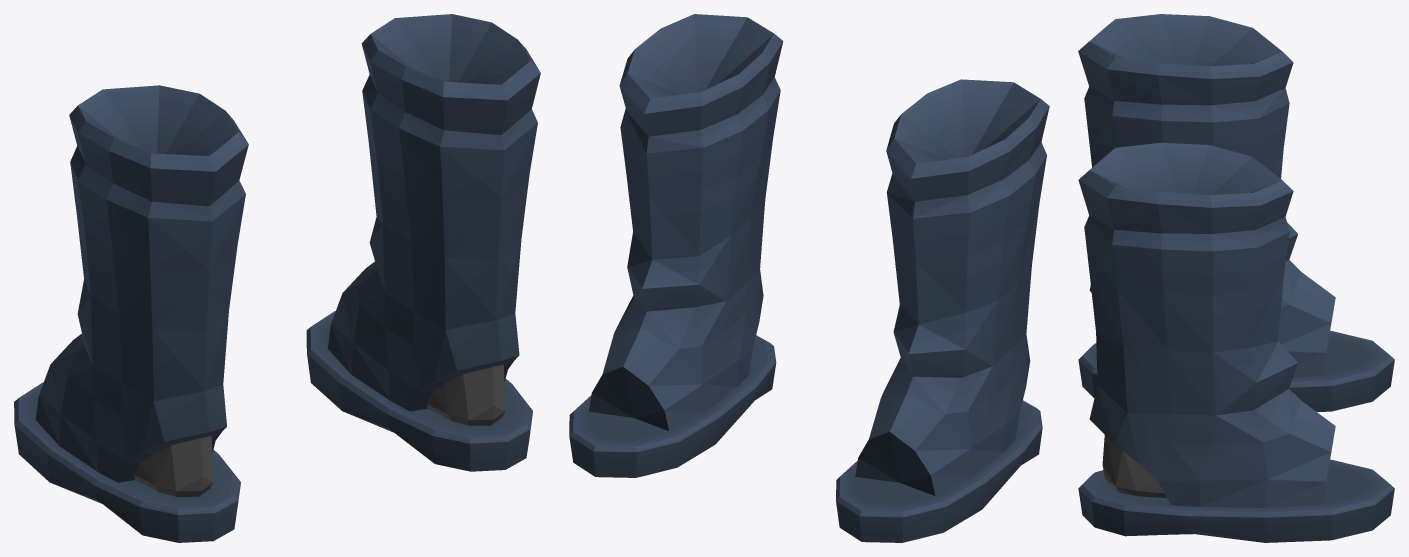
File: CharSkyKid_Feet_AP23WrapSandals.glb
3 views of the same model, side by side, from view 1: azimuth 30°, elevation 25°; view 2: azimuth 150°, elevation 25°; view 3: azimuth 270°, elevation 25° (orthographic). The views are drawn at different scales.
Visible parts, largest first — view 1: CharSkyKid_Feet_AP23WrapSandals; view 2: CharSkyKid_Feet_AP23WrapSandals; view 3: CharSkyKid_Feet_AP23WrapSandals.
Boxes of the visible parts, x1=… form: CharSkyKid_Feet_AP23WrapSandals: x1=14, y1=14, x2=540, y2=542; CharSkyKid_Feet_AP23WrapSandals: x1=569, y1=14, x2=1049, y2=542; CharSkyKid_Feet_AP23WrapSandals: x1=1078, y1=14, x2=1394, y2=542.
Size of the model in its own units: 2.7 by 2.34 by 1.93.
Materials: 1 (1 with a texture image).
